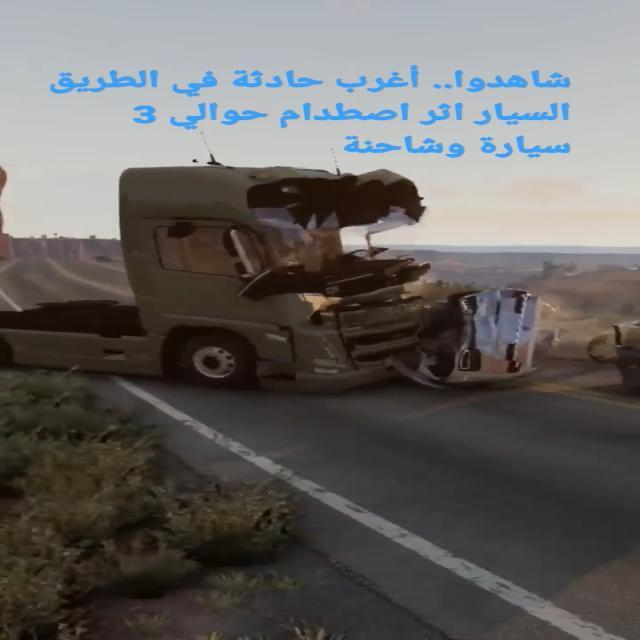accident: (62, 163, 548, 397)
